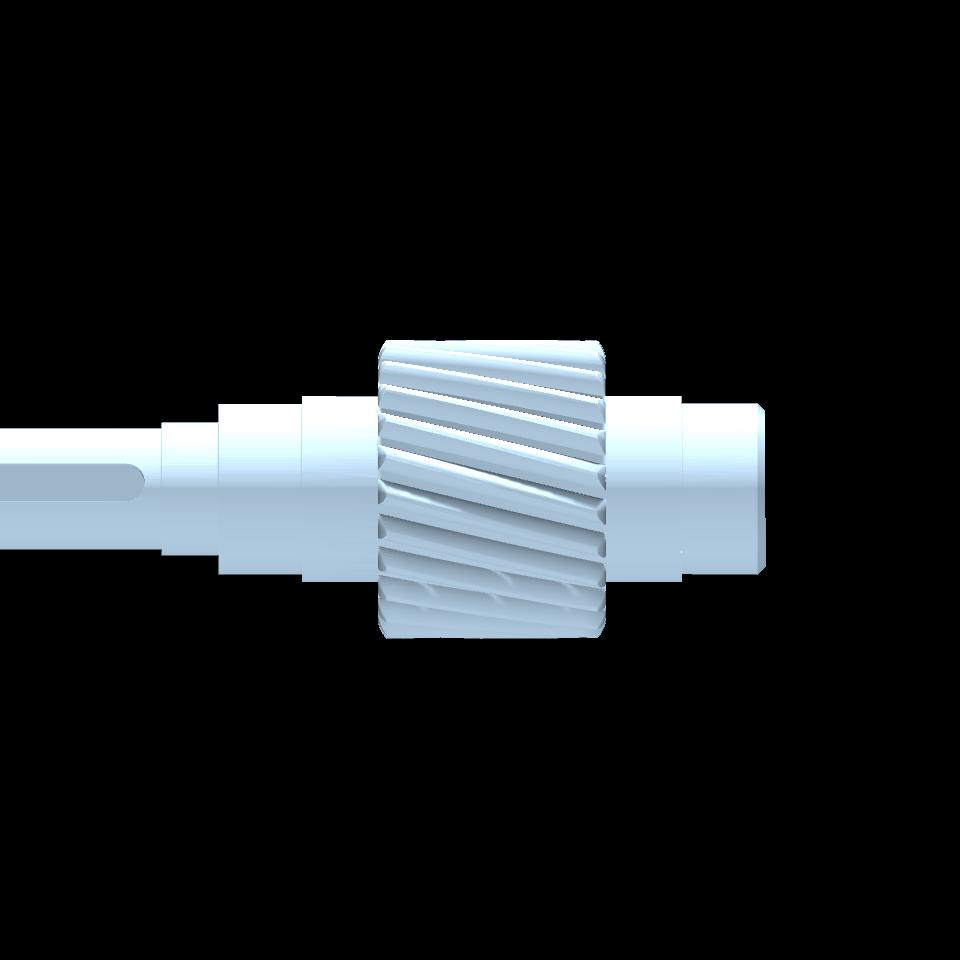Helical: (386, 341, 598, 637)
